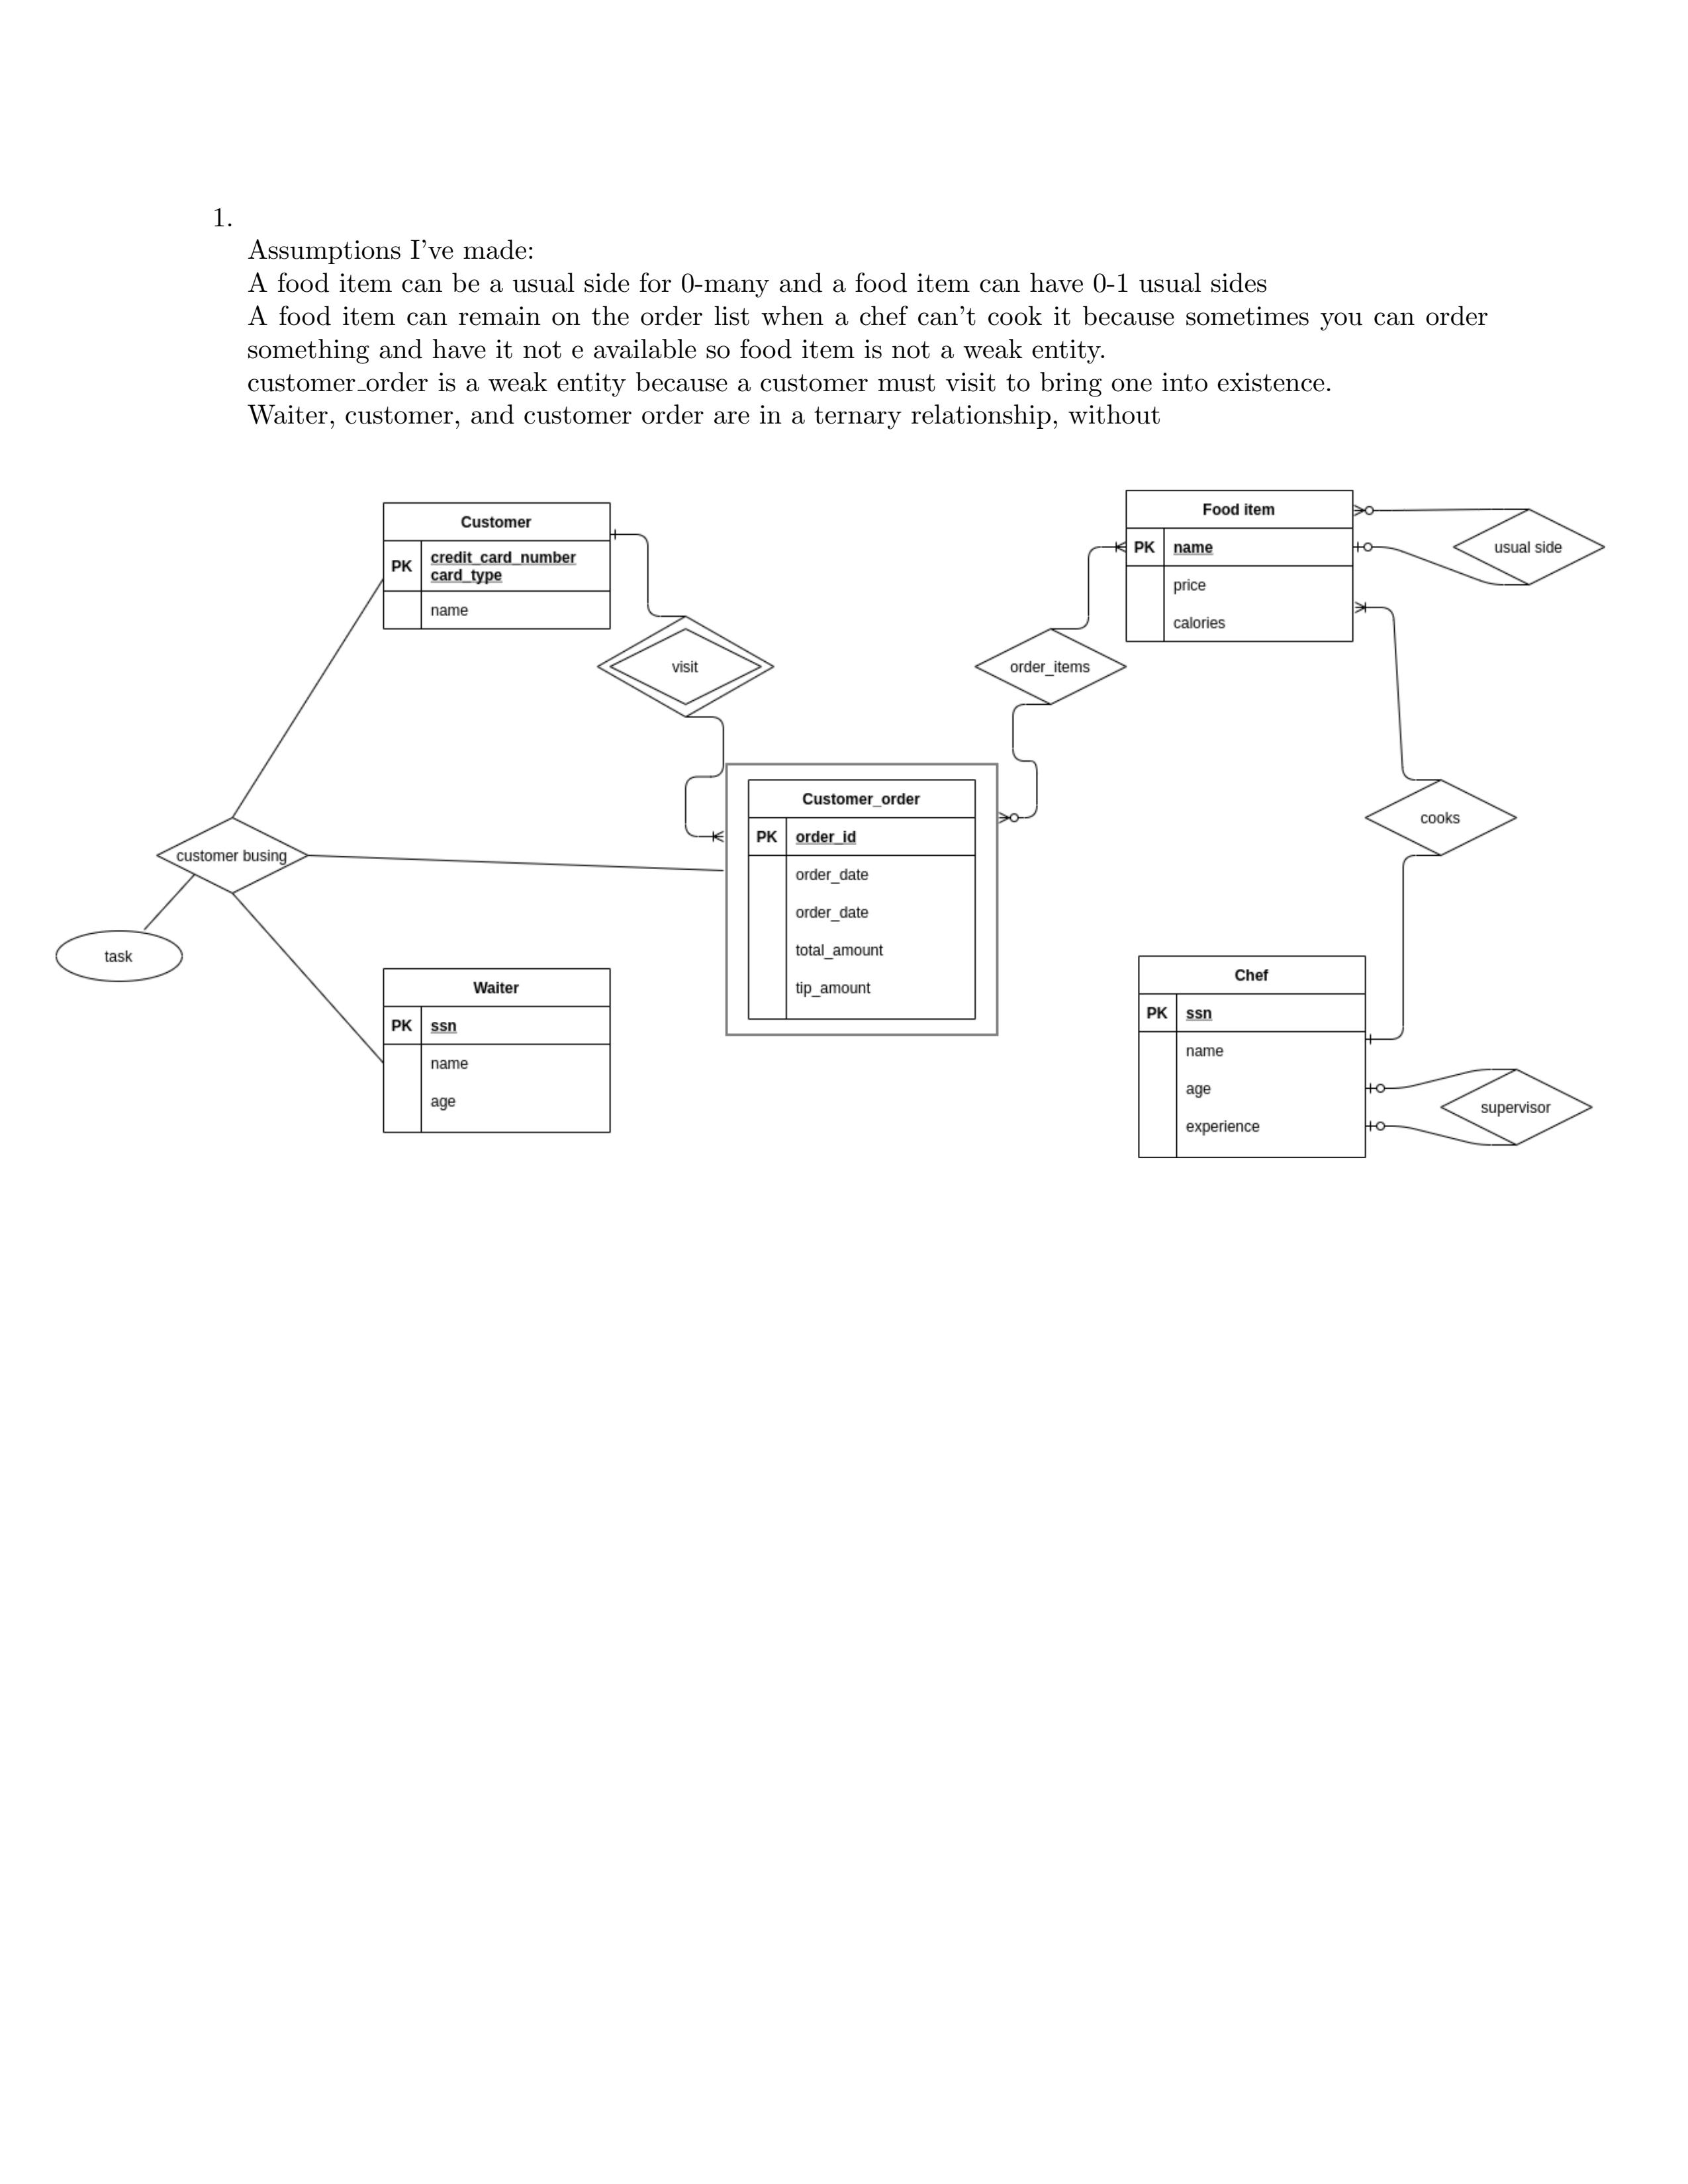Attribute: (55, 929, 183, 984)
Entity: (739, 773, 984, 1023), (1131, 954, 1371, 1163), (379, 964, 613, 1136), (1121, 486, 1360, 647), (381, 500, 617, 635)
Relationship: (598, 615, 775, 716), (1452, 507, 1606, 589), (1367, 780, 1530, 856), (1440, 1065, 1594, 1143), (979, 626, 1131, 704), (158, 815, 307, 892)
